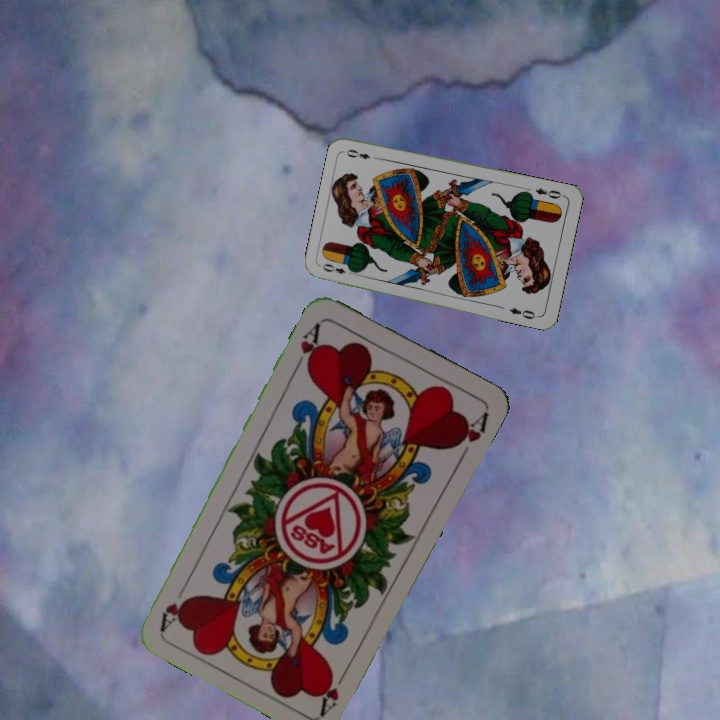EO: (318, 260, 358, 278), (531, 184, 567, 201)
HA: (313, 663, 352, 717), (291, 319, 323, 374)
